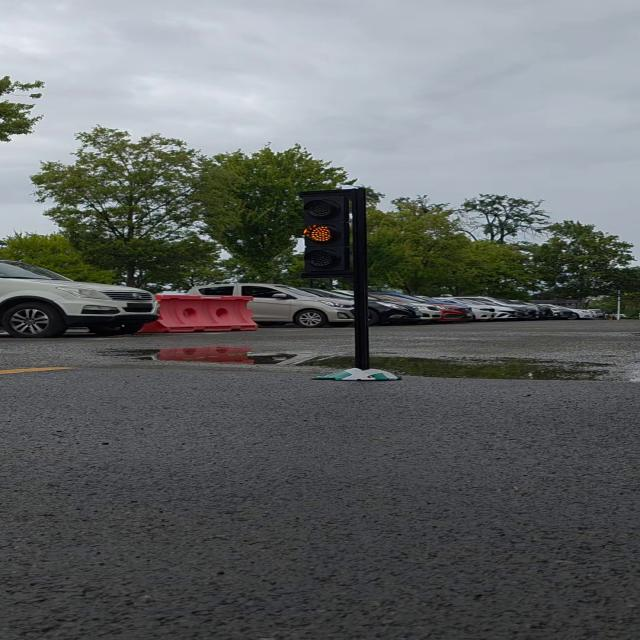yellow: (290, 187, 364, 276)
